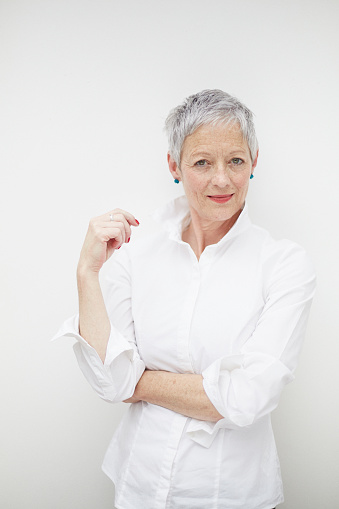em pe: (65, 81, 327, 432)
